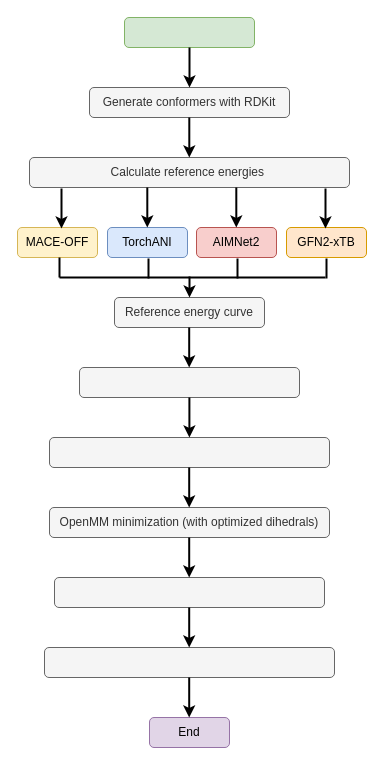
This 384x765 diagram has some shape labels left out. Here are the shapes that lost their labels. From the top down, the centre of each, then its label:
the point at 189,32: Start: SMILES Input
the point at 189,382: OpenMM minimization (no dihedrals)
the point at 189,452: Optimize dihedral parameters (least-squares fit)
the point at 189,592: Validate torsion profile (compare to reference)
the point at 189,662: Generate final topology and download parameters
